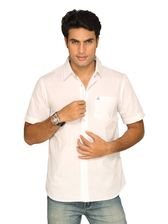clothoes: (24, 52, 153, 200)
